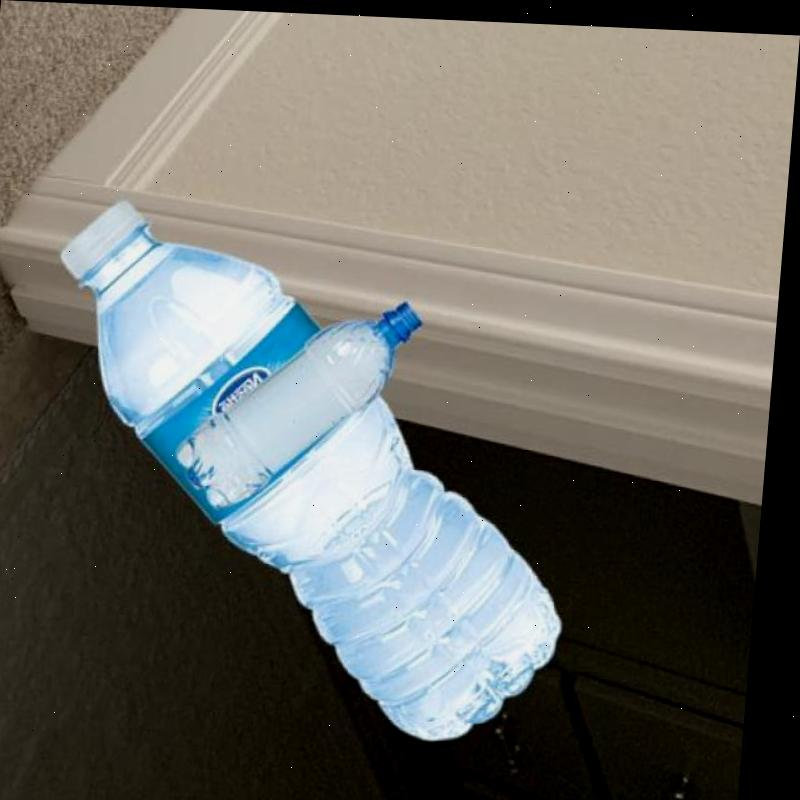botella: (30, 197, 596, 739), (178, 288, 433, 513)
